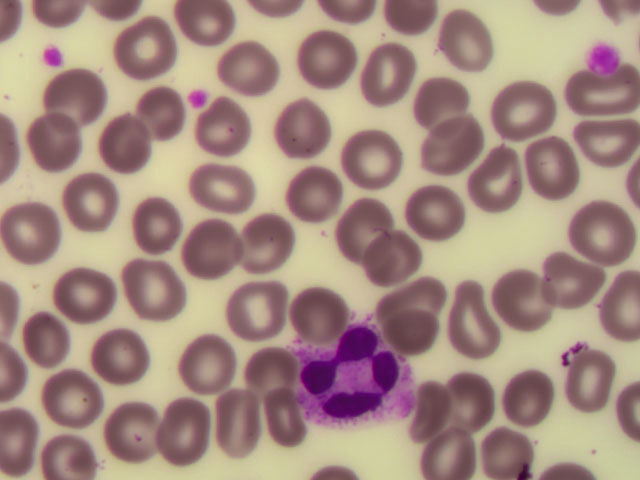Platelets: (585, 45, 616, 74), (37, 45, 70, 68), (191, 89, 209, 107)
RBC: (45, 426, 101, 480), (481, 426, 537, 480), (591, 274, 640, 335), (46, 72, 102, 125), (29, 111, 85, 164), (98, 116, 154, 169), (130, 90, 186, 143), (115, 20, 171, 73), (221, 38, 277, 91), (275, 105, 331, 158), (298, 36, 354, 89), (355, 45, 411, 98), (439, 15, 495, 68), (413, 69, 469, 122), (419, 116, 475, 169), (464, 155, 520, 208), (520, 139, 576, 192), (495, 81, 551, 134), (582, 117, 638, 170), (578, 73, 634, 126), (574, 207, 630, 260), (546, 251, 602, 304), (496, 273, 552, 326), (443, 298, 499, 351), (391, 306, 447, 359), (385, 272, 441, 325), (362, 234, 418, 287), (337, 203, 393, 256), (408, 186, 464, 239), (340, 126, 396, 179), (287, 166, 343, 219), (237, 217, 293, 270), (190, 223, 246, 276), (195, 166, 251, 219), (199, 98, 255, 151), (135, 194, 191, 247), (61, 177, 117, 230), (7, 204, 63, 257), (56, 266, 112, 319), (127, 264, 183, 317), (93, 334, 149, 387), (54, 369, 110, 422), (26, 312, 82, 365), (1, 420, 57, 473), (105, 406, 161, 459), (158, 408, 214, 461), (212, 395, 268, 448), (255, 392, 311, 445), (255, 342, 311, 395), (171, 335, 227, 388), (227, 287, 283, 340), (290, 283, 346, 336), (447, 372, 503, 425), (402, 381, 458, 434), (418, 425, 474, 478), (506, 368, 562, 421), (567, 352, 623, 405), (174, 1, 230, 53)
WBC: (303, 329, 413, 427)
